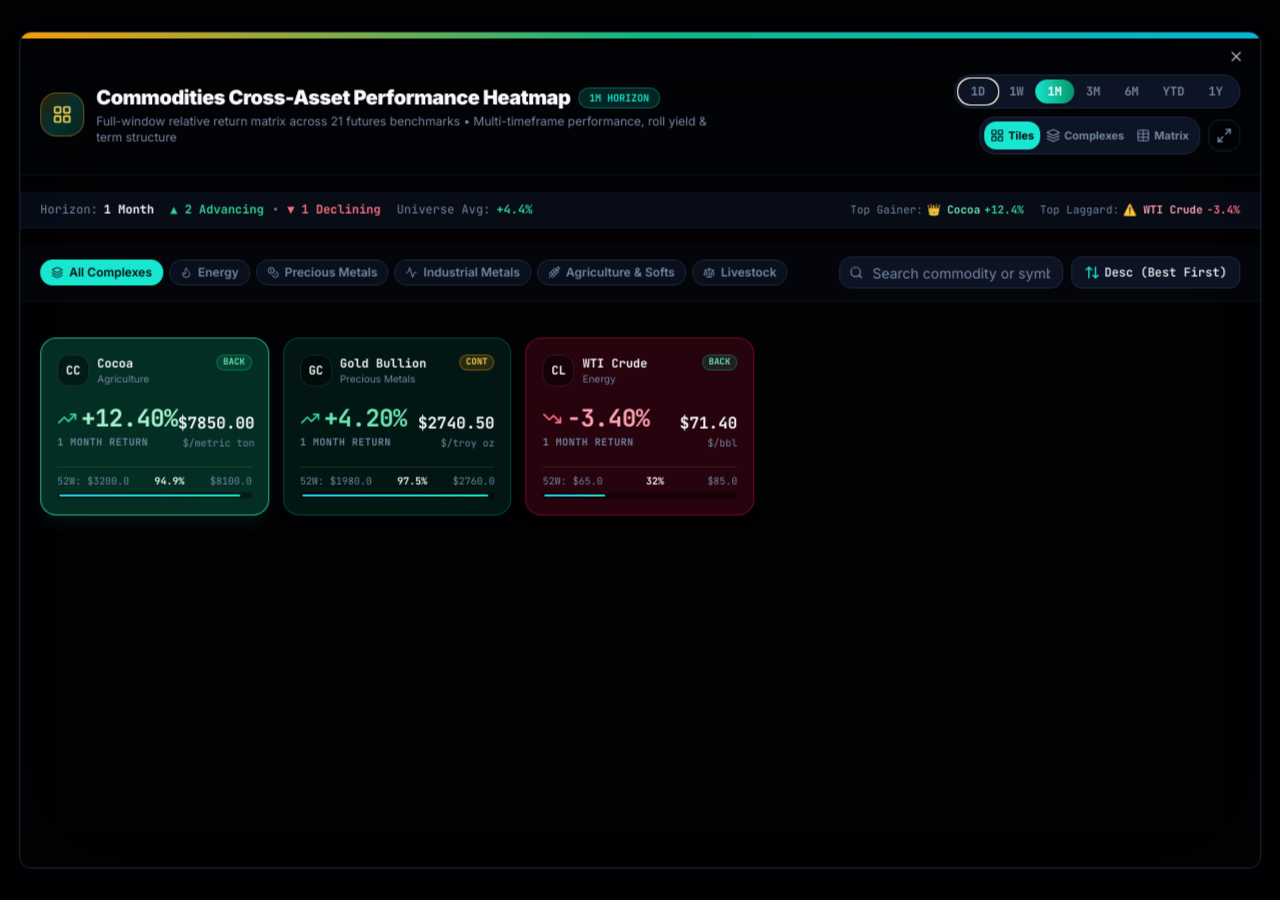
it: CommodityHeatmapModal › allows switching timeframes and updates return values
Check: the text "+12.40%" is shown, box [81, 402, 178, 434]
Note: Click 1Y timeframe
Click the button "1Y".
click(1216, 92)  # box [1196, 80, 1235, 104]
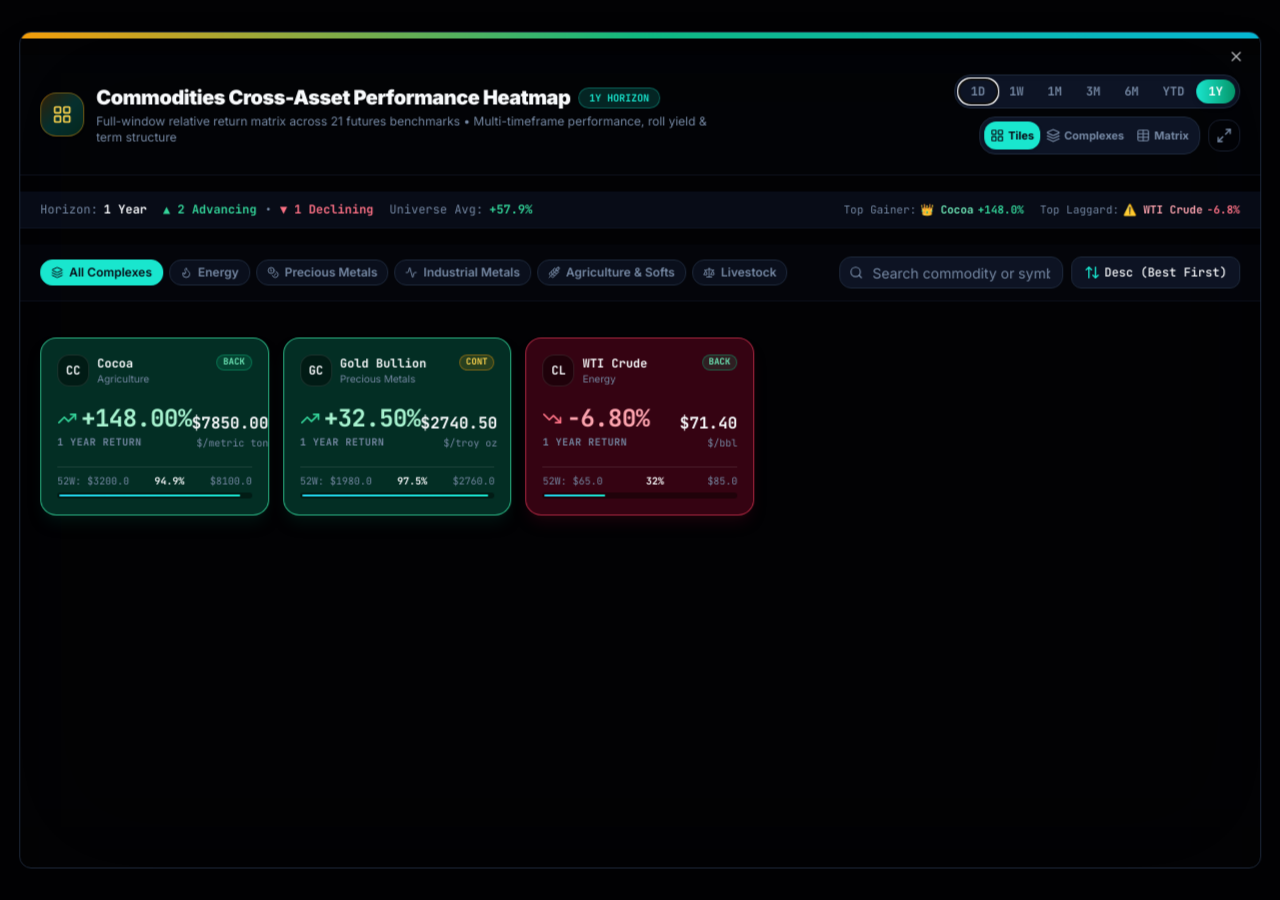
Check: the text "1Y Horizon" is shown, box [578, 87, 660, 108]
Check: the text "+148.00%" is shown, box [81, 402, 192, 434]
Check: the text "+32.50%" is shown, box [324, 402, 420, 434]
